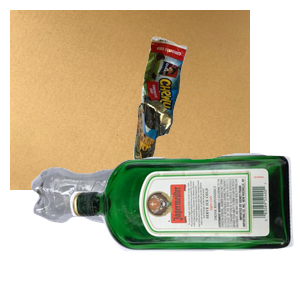cardboard: (10, 10, 250, 190)
glass: (67, 150, 300, 300)
plastic: (29, 165, 227, 300)
trash: (130, 34, 300, 203)
